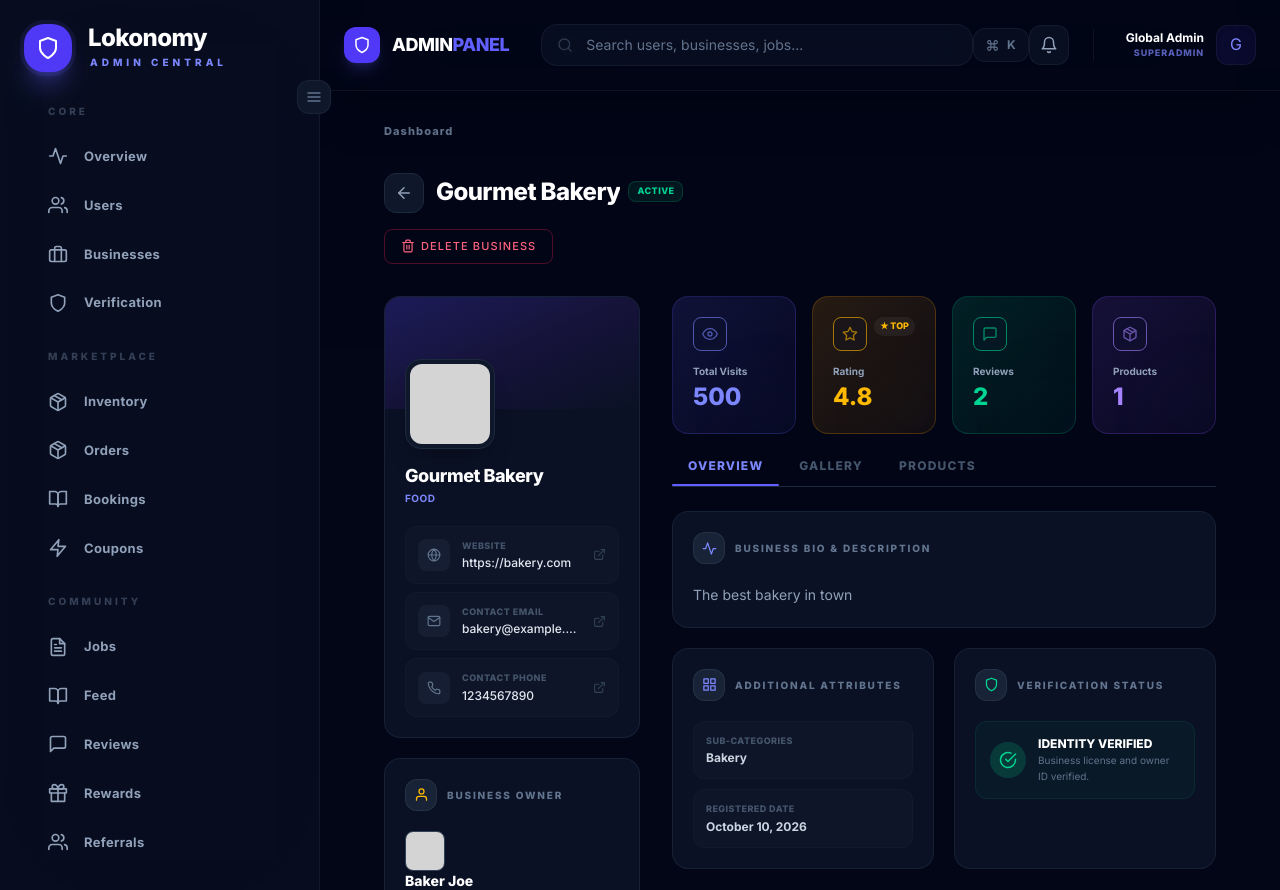
AdminBusinessDetails Page › handles tab switching (Gallery, Products)
The image size is (1280, 890).
Expected: the heading "Gourmet Bakery" next to "active" is shown, [436,177,620,206]
// Gallery Tab
Step 1. Click the button "gallery" → (831, 472), box [783,458,879,486]
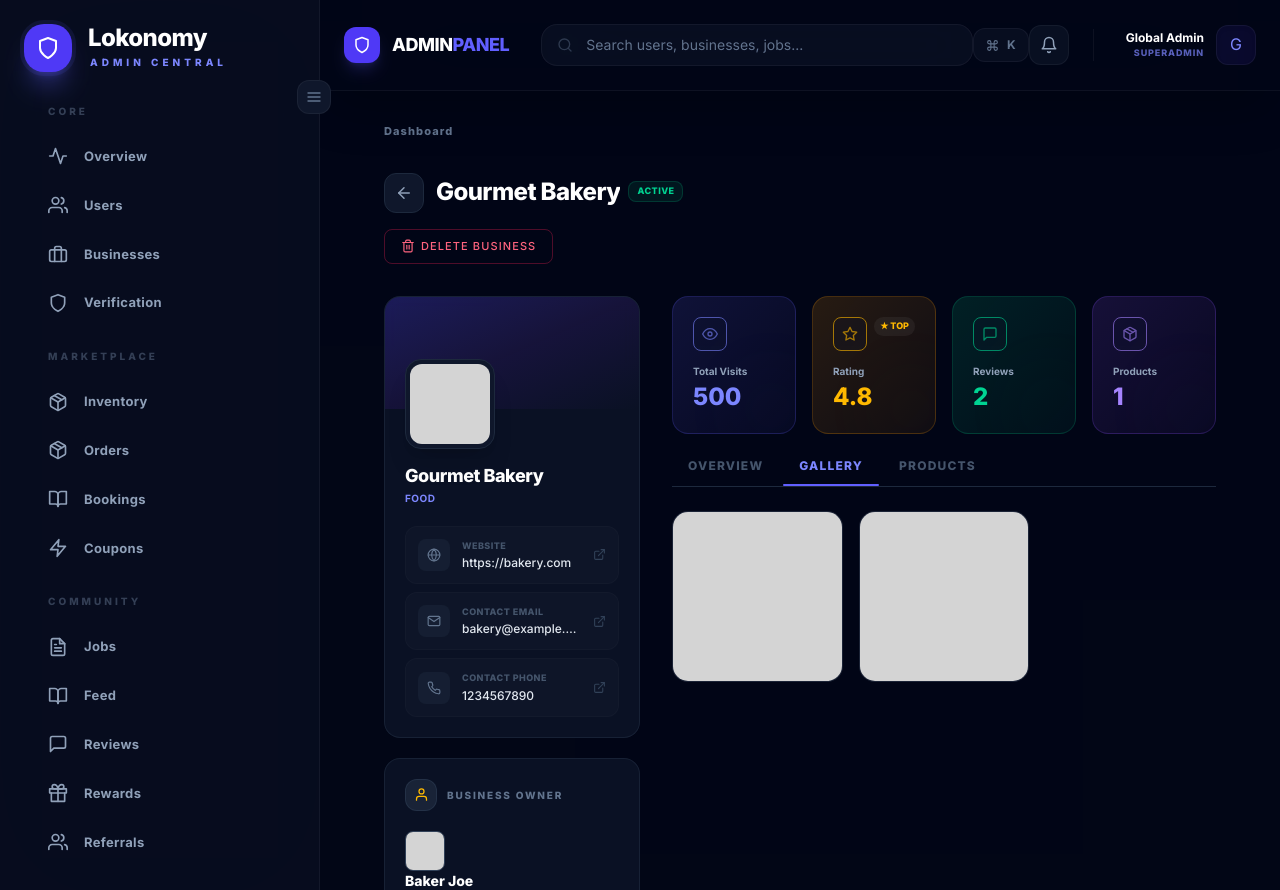
// Products Tab
Step 2. Click the button "products" → (937, 472), box [883,458,992,486]
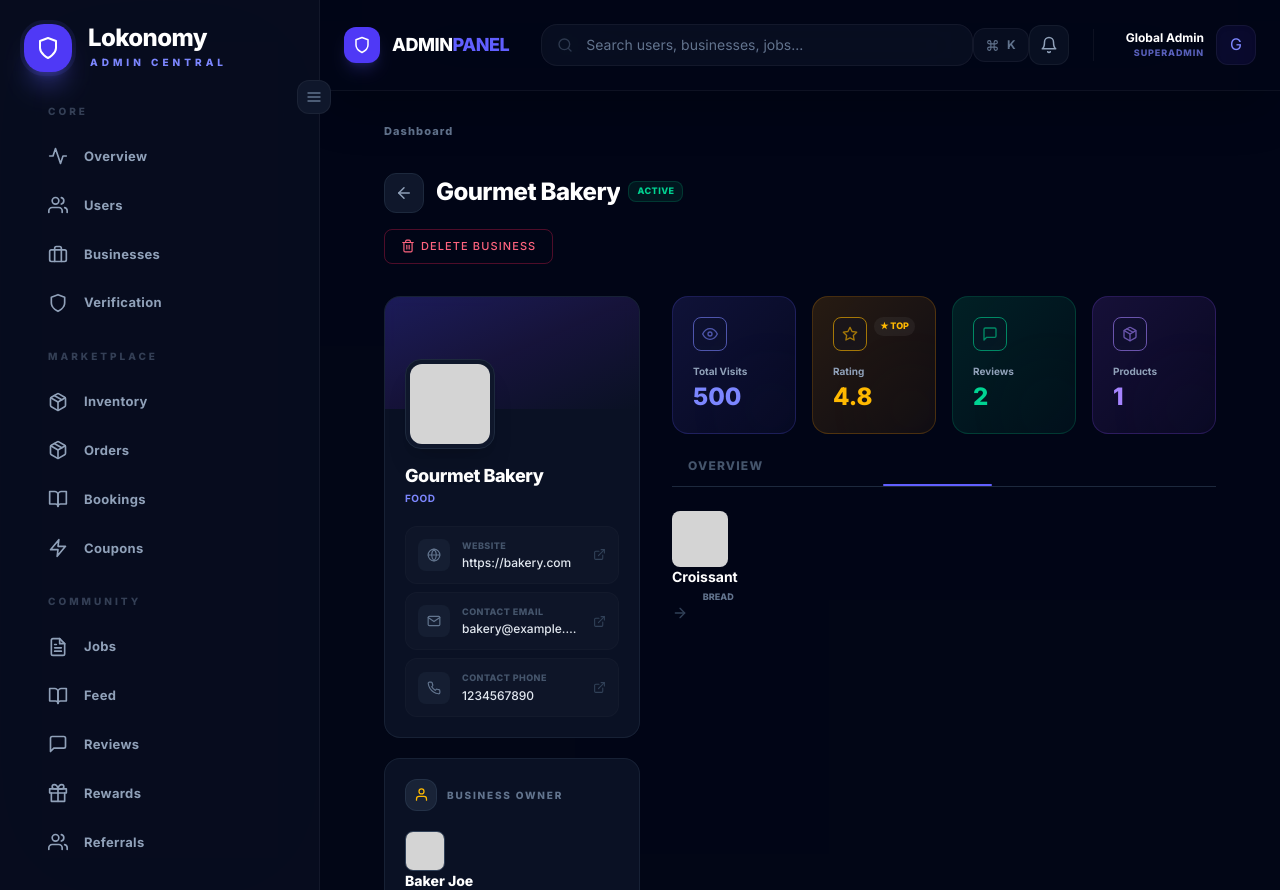
Expected: the text "Croissant" is shown, [672,568,738,585]
